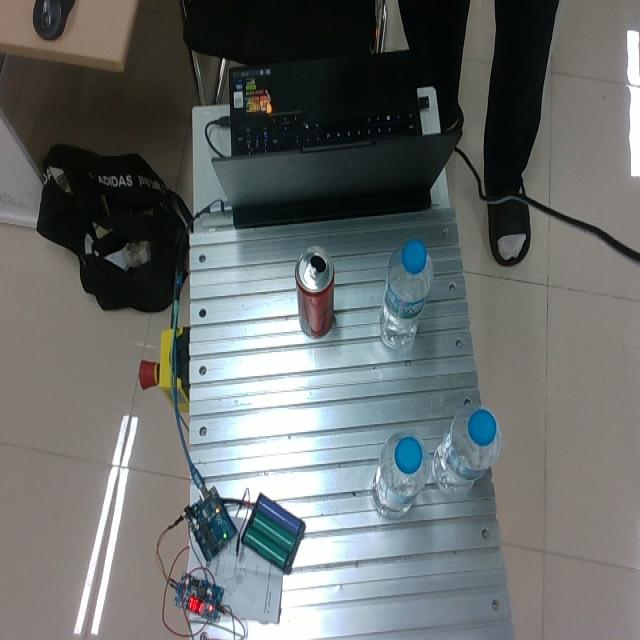coca: (294, 244, 335, 339)
lavie: (430, 404, 501, 493), (378, 238, 434, 350), (370, 430, 429, 518)
